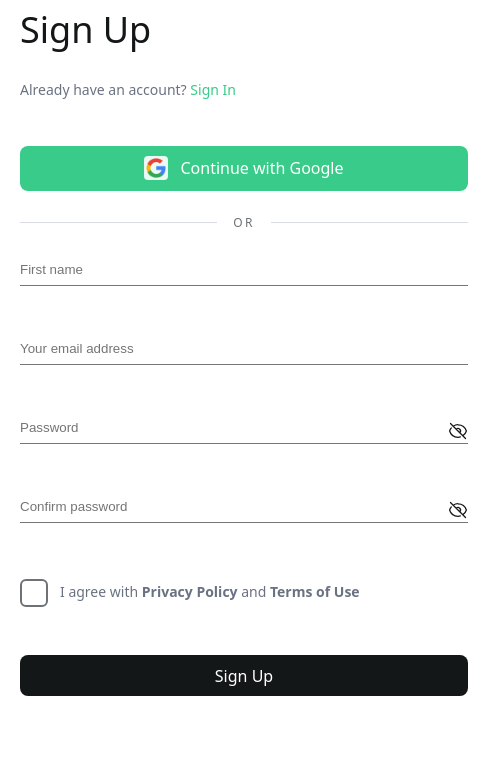
Scenario: Feature: RegisterForm › should show server error and clear it after form changes
The width and height of the screenshot is (489, 761).
Type "John" into the field with placeholder "First name" at x=244, y=273, box [20,261,468,286]
Type "newuser@test.com" into the field with placeholder "Your email address" at x=244, y=352, box [20,340,468,365]
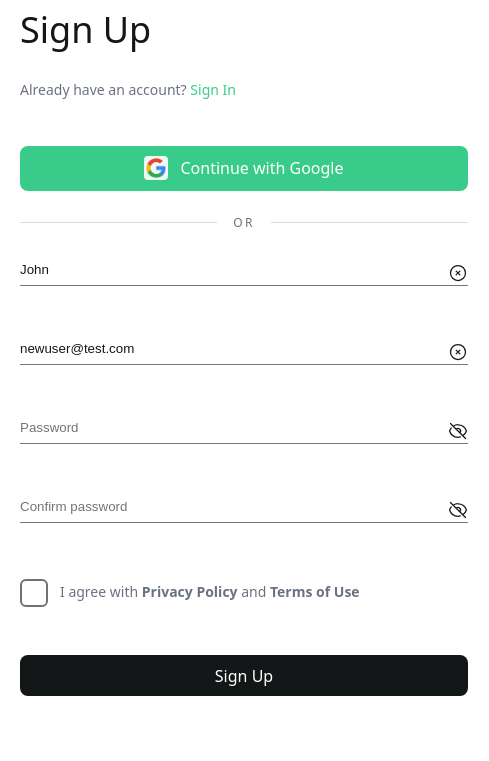
Type "Password1!" into the password field with placeholder "Password" at x=244, y=431, box [20,419,468,444]
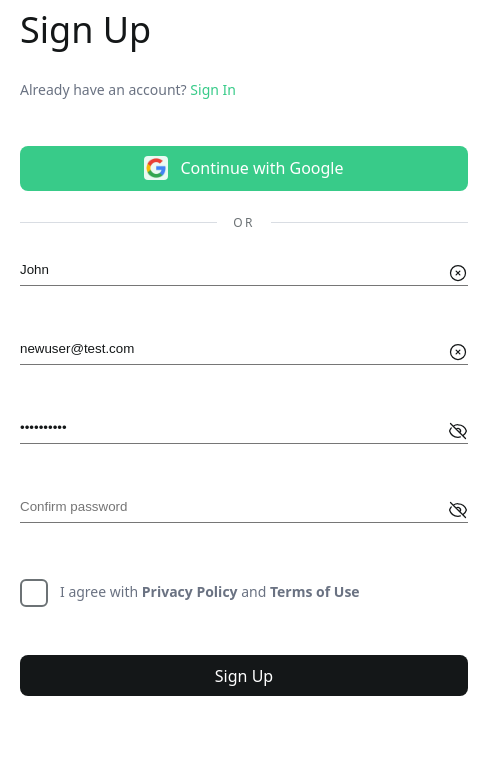
Type "Password1!" into the password field with placeholder "Confirm password" at x=244, y=510, box [20,498,468,523]
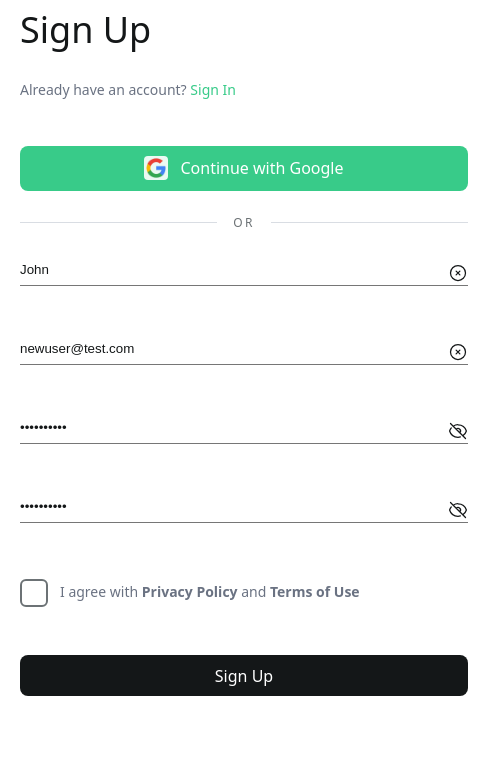
Click the checkbox at x=34, y=593, box [20,579,48,607]
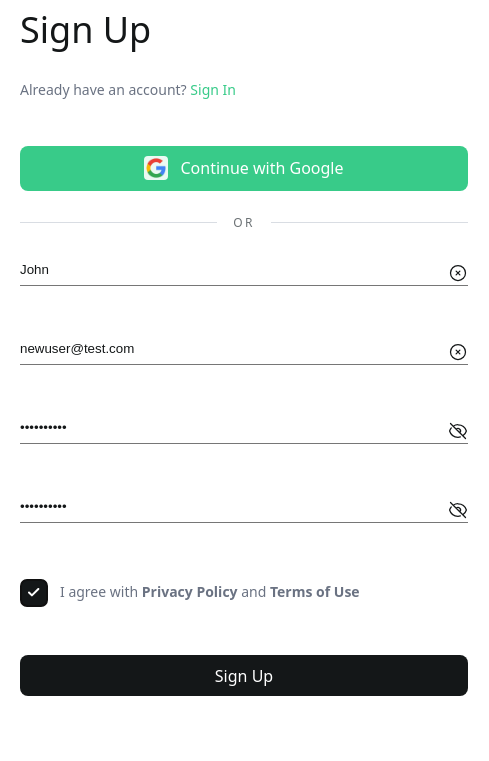
Click the button "Sign Up" at x=244, y=676, box [20,655,468,696]
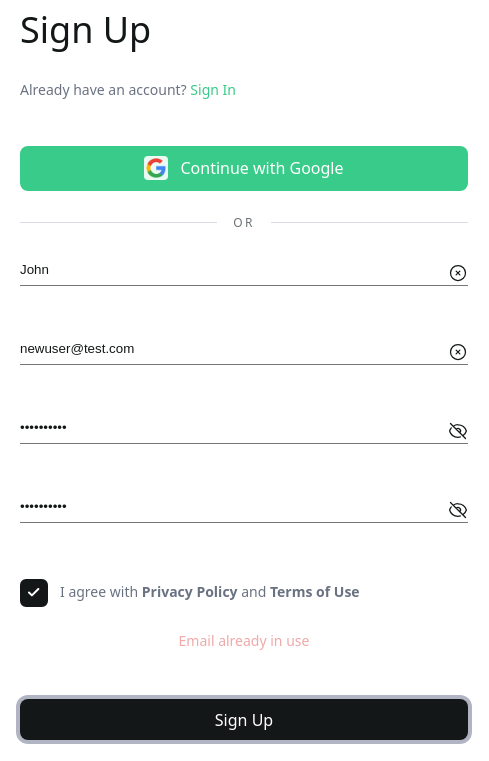
Expected: the text "Email already in use" is shown, [179,631,310,650]
Type "a" into the 2nd field with placeholder "Your email address" at x=244, y=352, box [20,340,468,365]
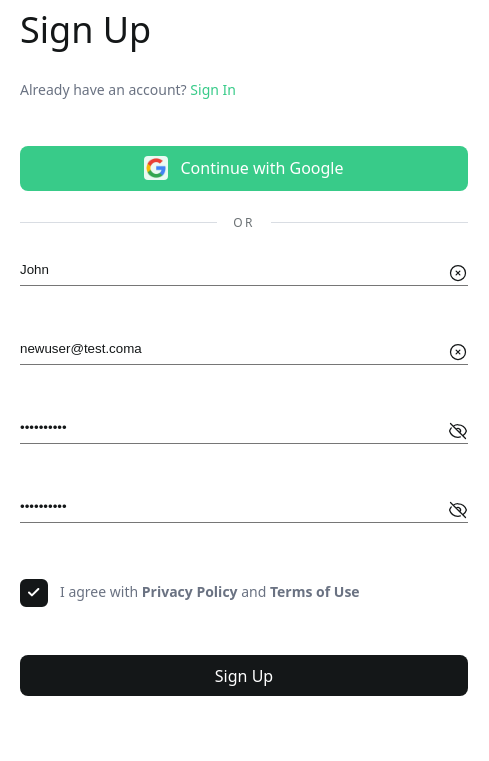
Expected: the text "Email already in use" is gone
